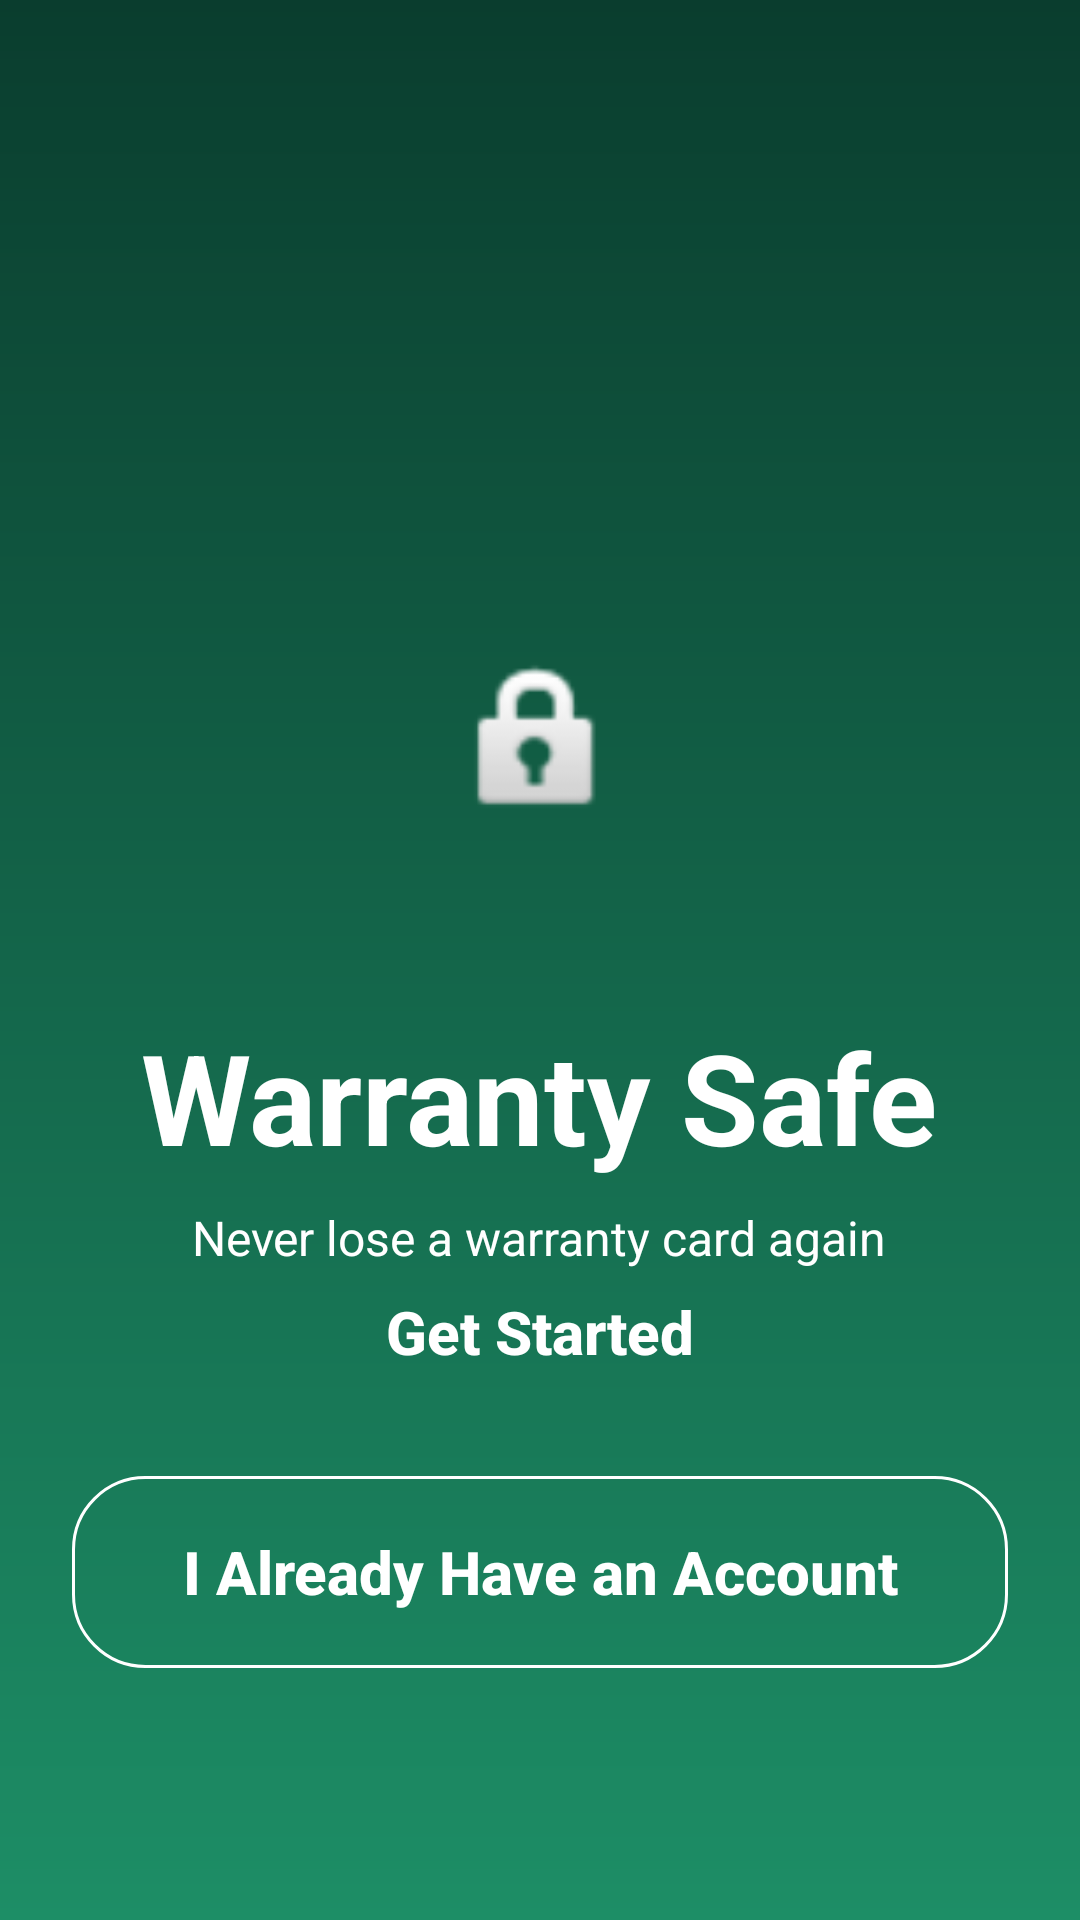

Named icons in this screenshot (1080w x 1920h) and their centers, point (x, y):
lock idle: point (536, 736)
